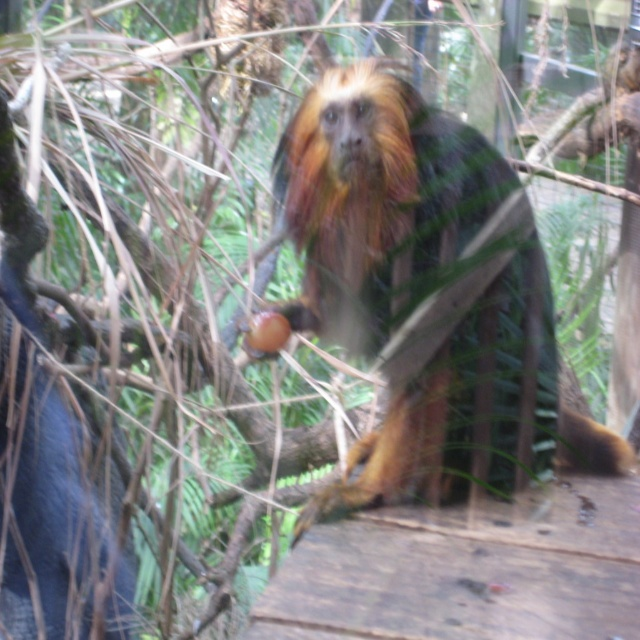Monkey: (238, 57, 633, 553)
